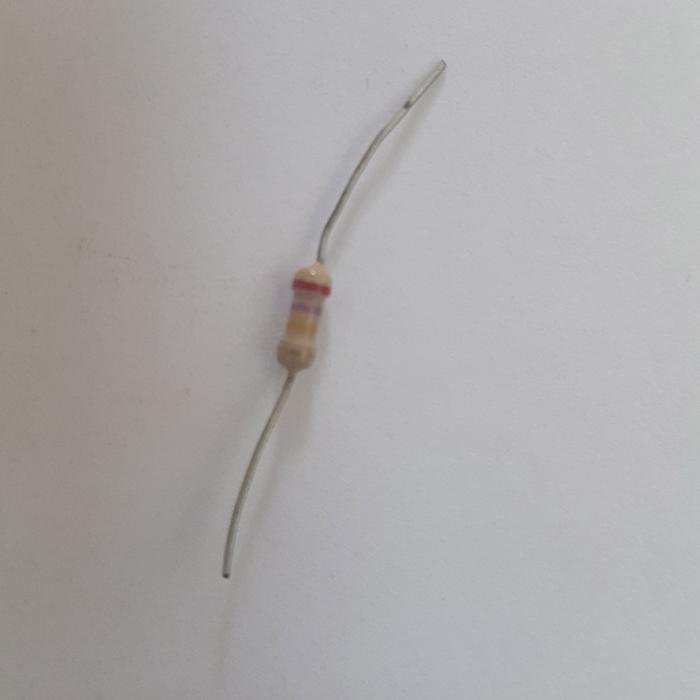resistor: (279, 262, 331, 373)
